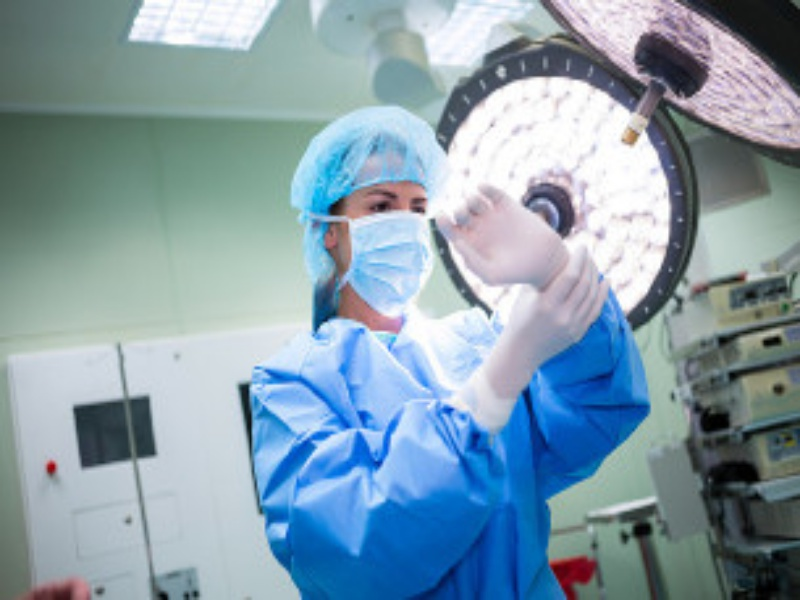mask: (298, 108, 445, 316)
